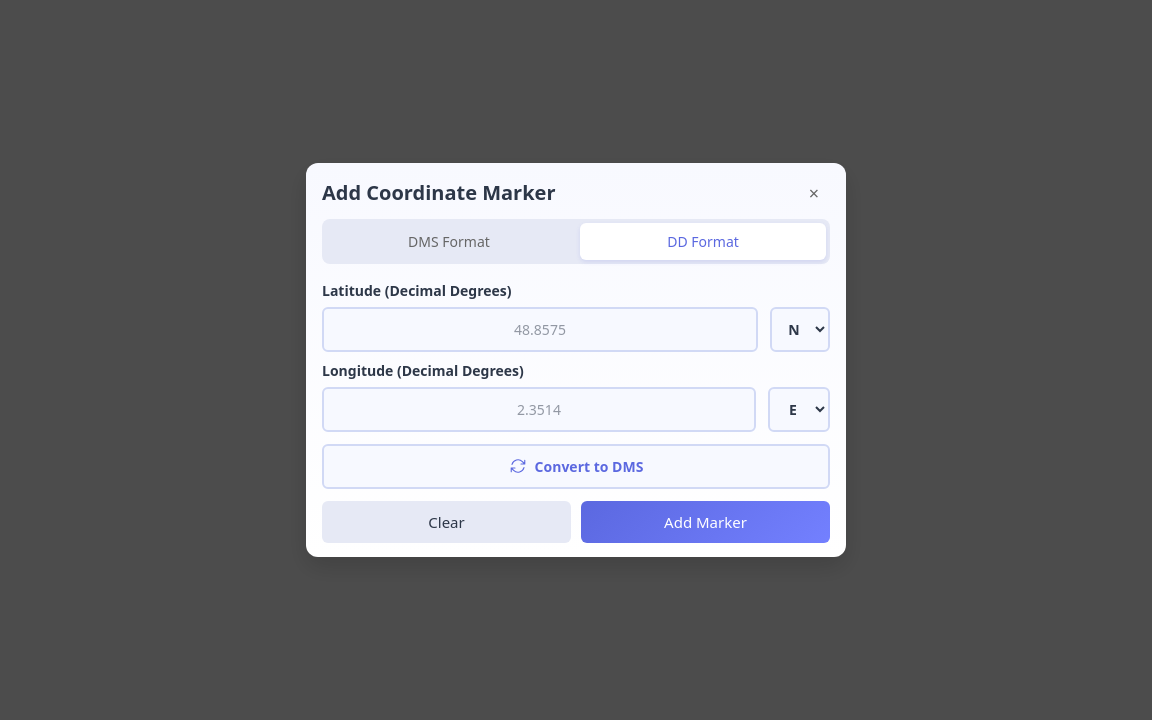
Test: CoordinateModal › should display DMS format inputs correctly
This screenshot has width=1152, height=720.
Note: Ubah format ke DMS
Click the button "DMS Format" at point(449, 241), box top-left (326, 223), bottom-right (572, 260)
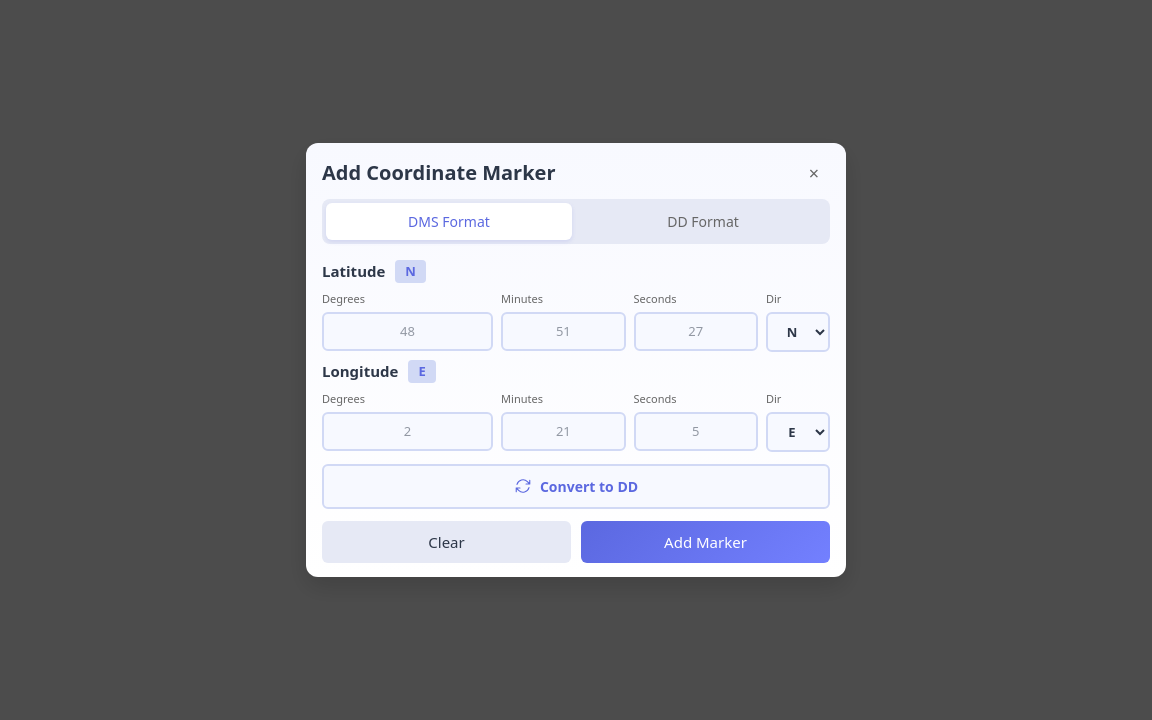
Check: the text "Degrees" below "Latitude" is shown, box top-left (322, 291), bottom-right (365, 306)
Check: the text "Minutes" below "Latitude" is shown, box top-left (501, 291), bottom-right (543, 306)
Check: the text "Seconds" below "Latitude" is shown, box top-left (634, 291), bottom-right (676, 306)
